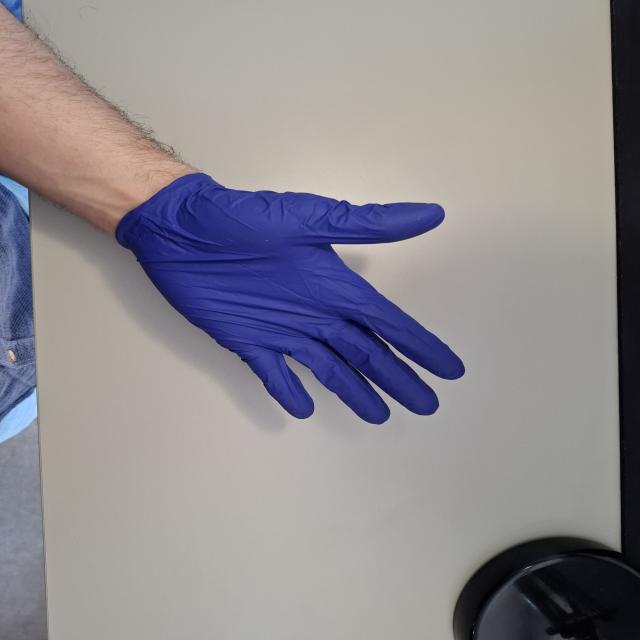glove_on: (113, 166, 470, 427)
